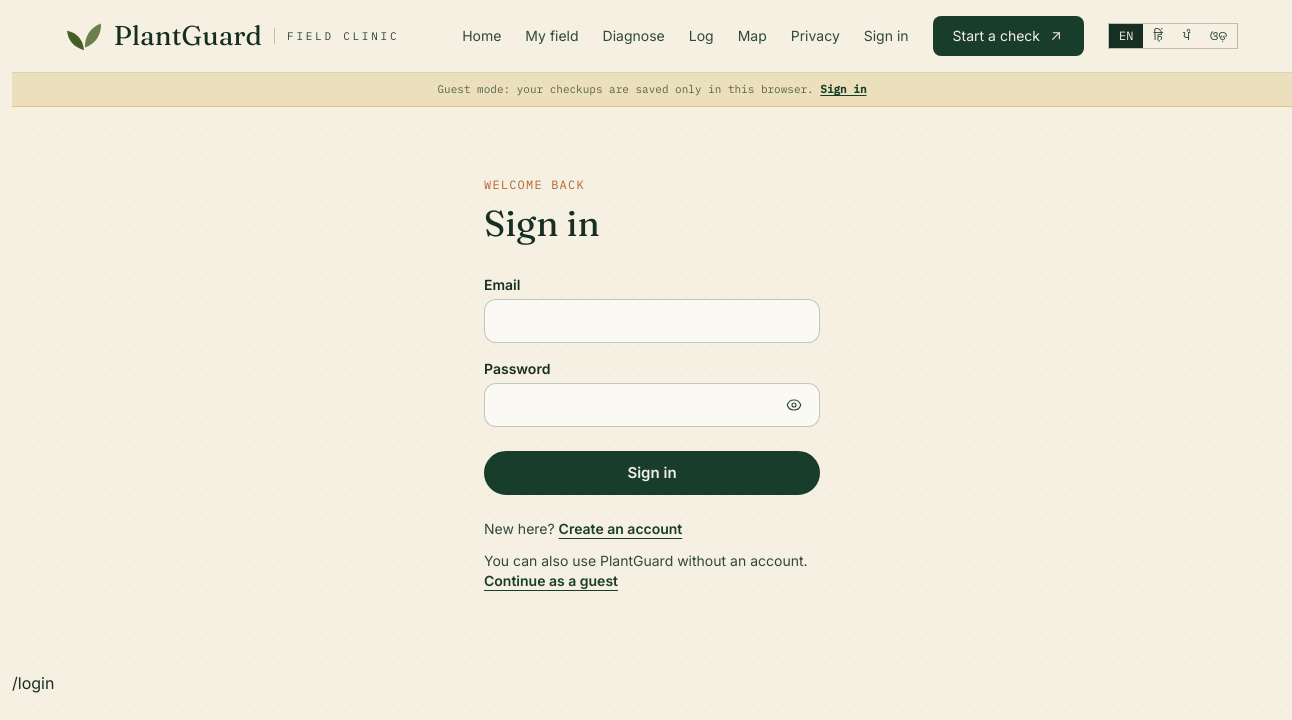
Test: signing in › a wrong password is said plainly, and nothing is saved
Type "asha@example.com" into the field labelled "Email".
click(652, 320); type("asha@example.com")  # box 484,298 -> 820,342
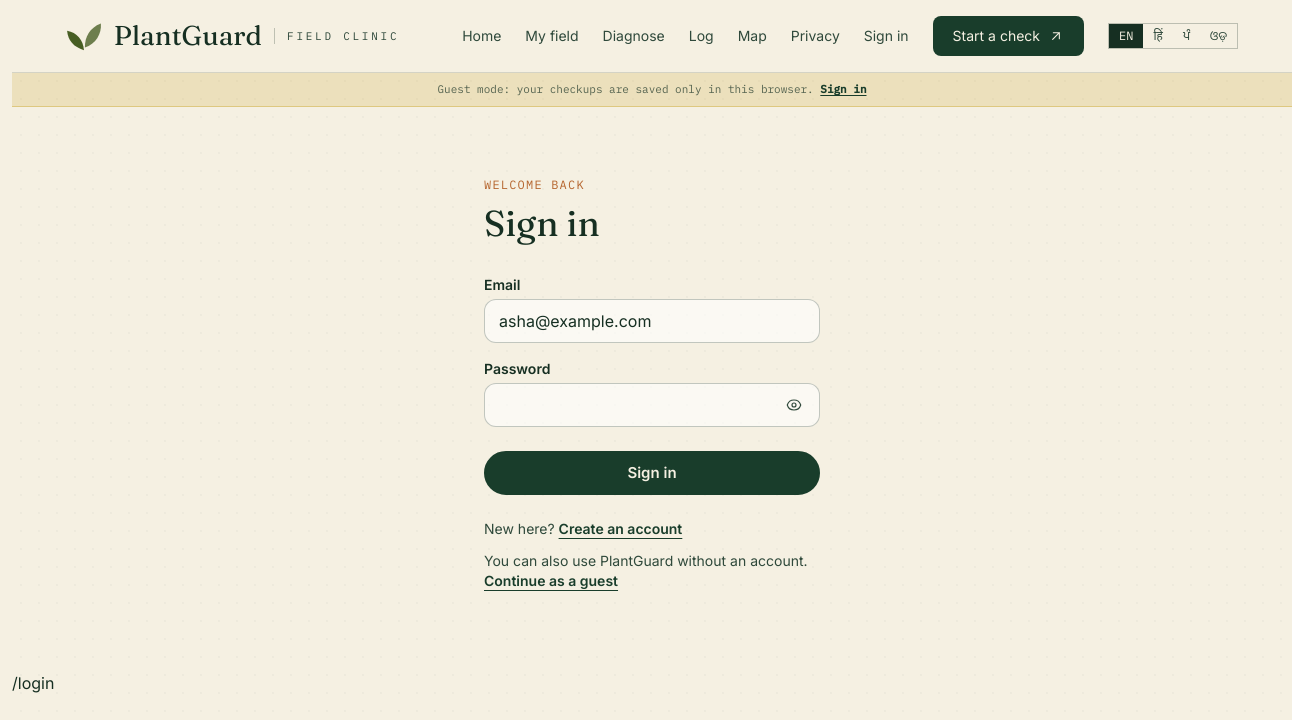
Type "wrong password" into the password field labelled "Password".
click(652, 404); type("wrong password")  # box 484,382 -> 820,426
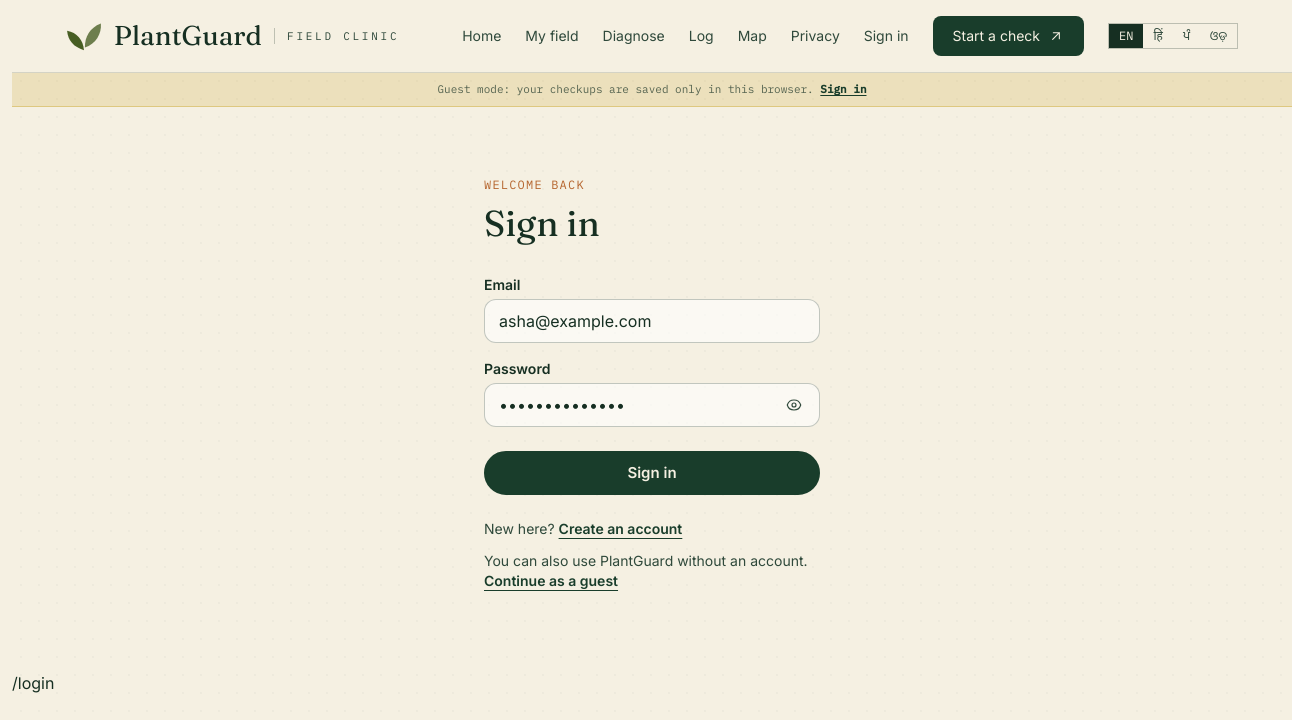
Click the button "Sign in".
click(652, 472)  # box 484,450 -> 820,494
(page scrolled)
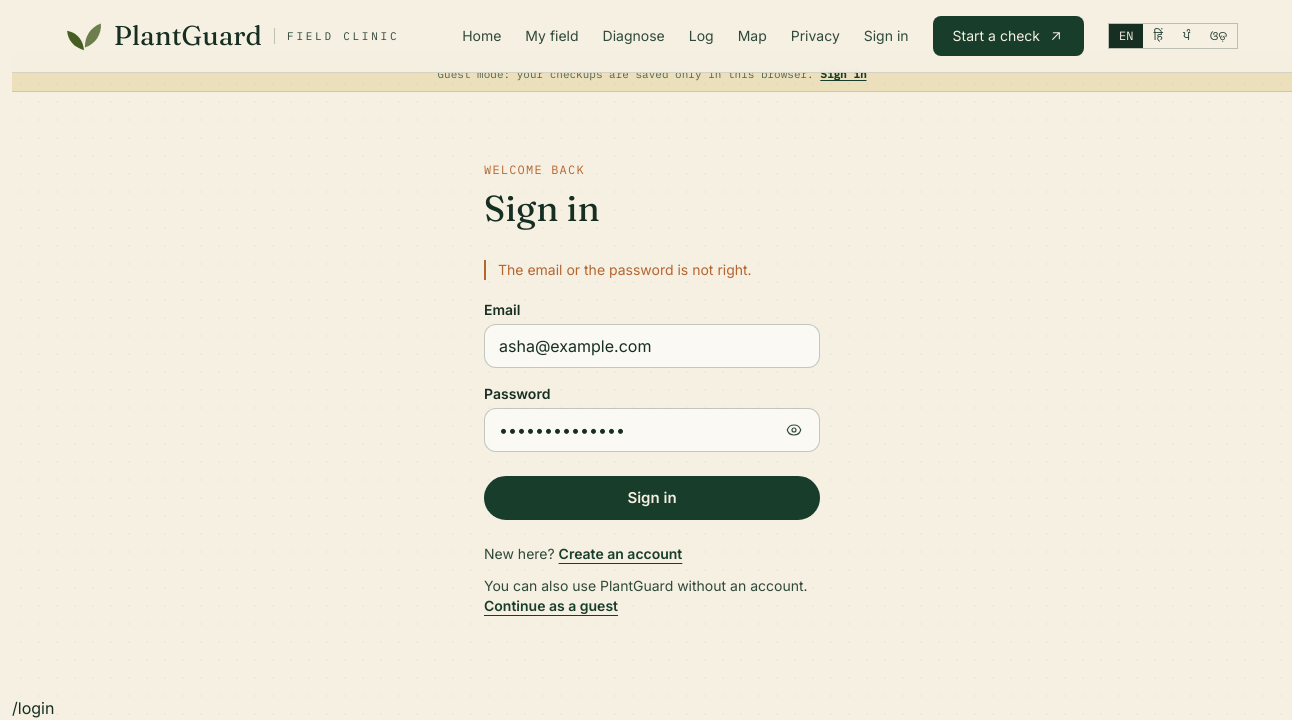
Check: the text with test id "where" reads "/login", box 12,698 -> 54,718
Check: the message reads "The email or the password is not right.", box 498,260 -> 752,278
